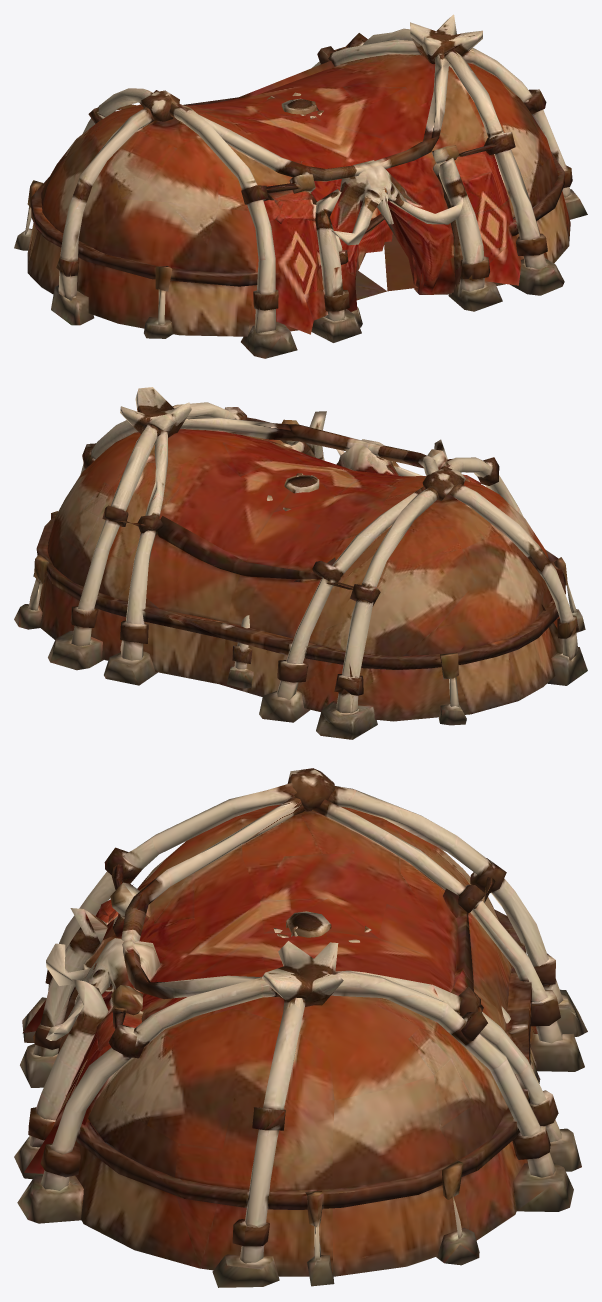
File: 05_buildings.glb
3 views of the same model, one above another, from view 1: azimuth 30°, elevation 25°; view 2: azimuth 150°, elevation 25°; view 3: azimuth 270°, elevation 25° (orthographic). The views are drawn at different scales.
Visible parts, largest first — view 1: bone_hall, bone_hut_b; view 2: bone_hall, bone_hut_b; view 3: bone_hall, bone_hut_b.
Boxes of the visible parts, box(x1,y1,x2,y2) form: bone_hall: box(14, 14, 587, 358); bone_hut_b: box(267, 92, 392, 327); bone_hall: box(14, 387, 587, 739); bone_hut_b: box(227, 474, 319, 688); bone_hall: box(14, 768, 587, 1287); bone_hut_b: box(83, 911, 540, 1083).
Bounding box in the file's own units: 12.44 × 4.5 × 9.07.
Materials: 1 (1 with a texture image).
